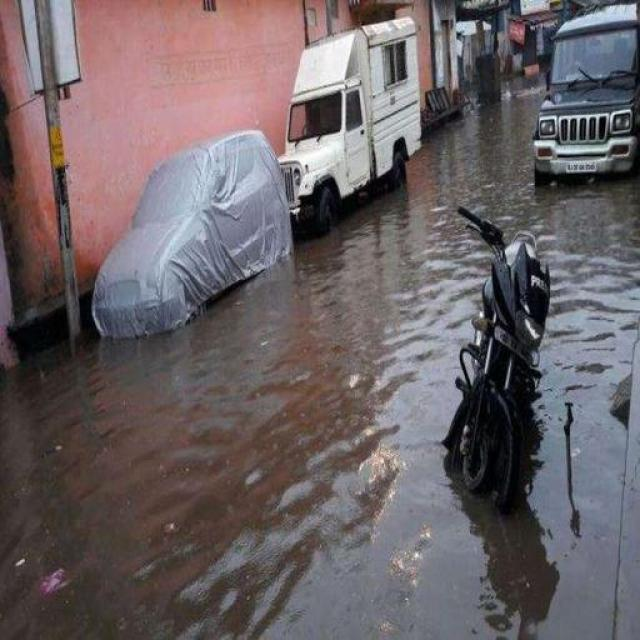puddle: (34, 331, 439, 640), (553, 215, 637, 635), (310, 222, 451, 450), (436, 109, 529, 237)
